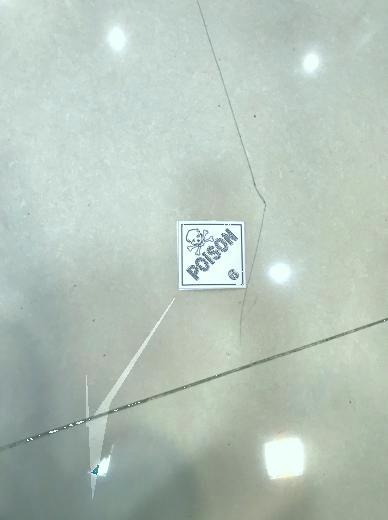poison: (176, 219, 246, 290)
